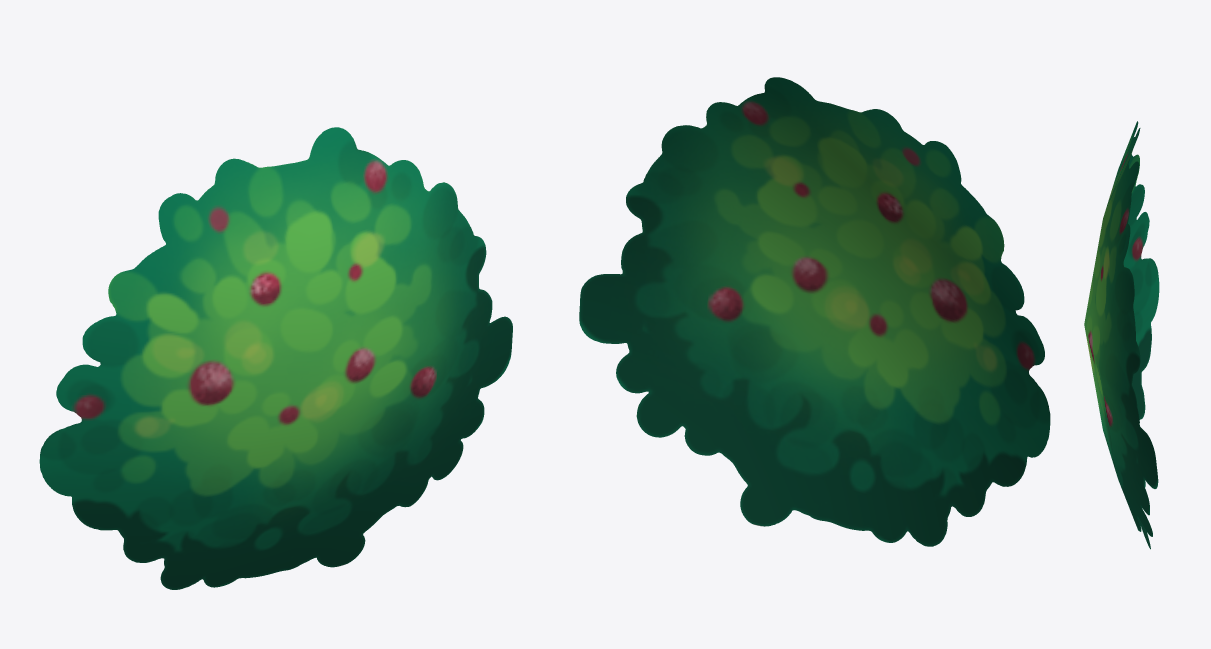
The model's file is Bush.fbx.
3 views of the same model, side by side, from view 1: azimuth 30°, elevation 25°; view 2: azimuth 150°, elevation 25°; view 3: azimuth 270°, elevation 25° (orthographic). The views are drawn at different scales.
Parts seen in each view (by area): view 1: Bush; view 2: Bush; view 3: Bush.
Boxes of the visible parts, box(x1,y1,x2,y2) form: Bush: box(39, 127, 512, 589); Bush: box(579, 77, 1050, 546); Bush: box(1084, 121, 1159, 549).
Bounding box in the file's own units: 200 × 200 × 48.18.
